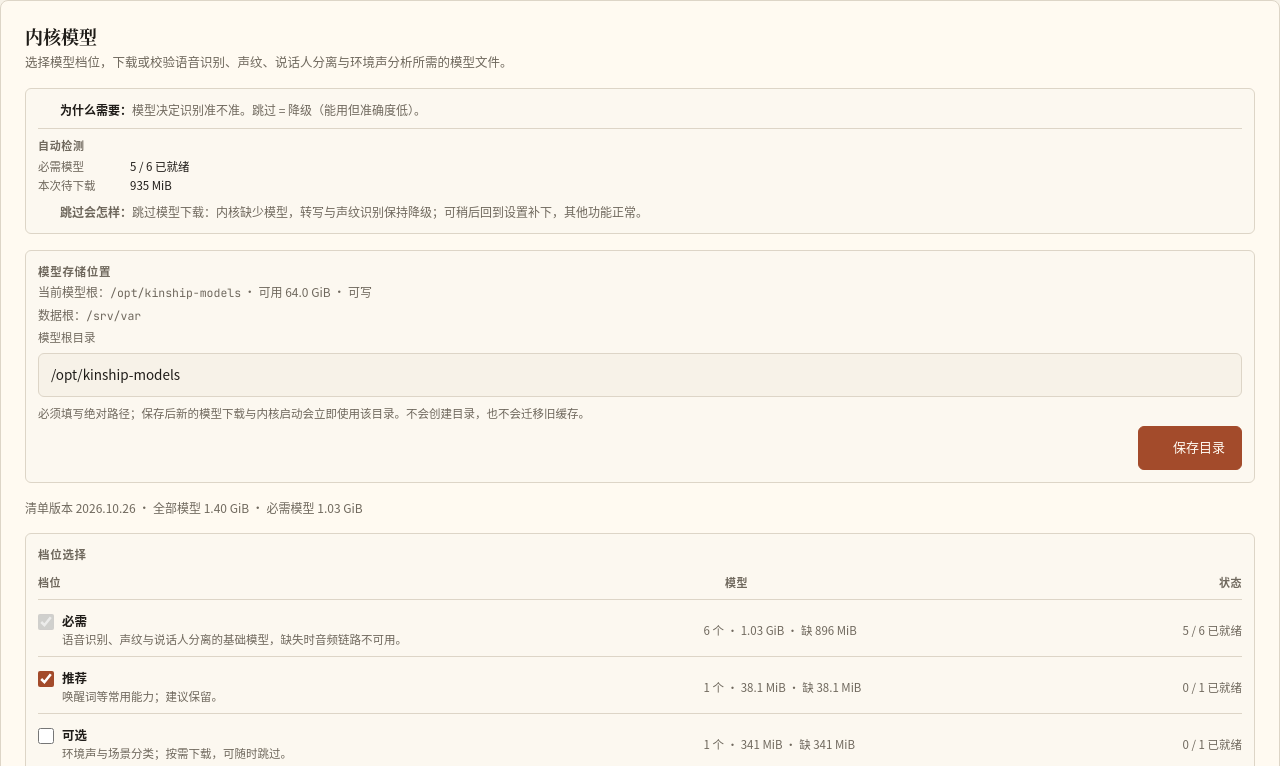
KernelModelsStep › blocks the storage save without an entry password
Type "/data/models" into the field labelled "模型根目录" at x=640, y=375, box [38,353,1242,397]
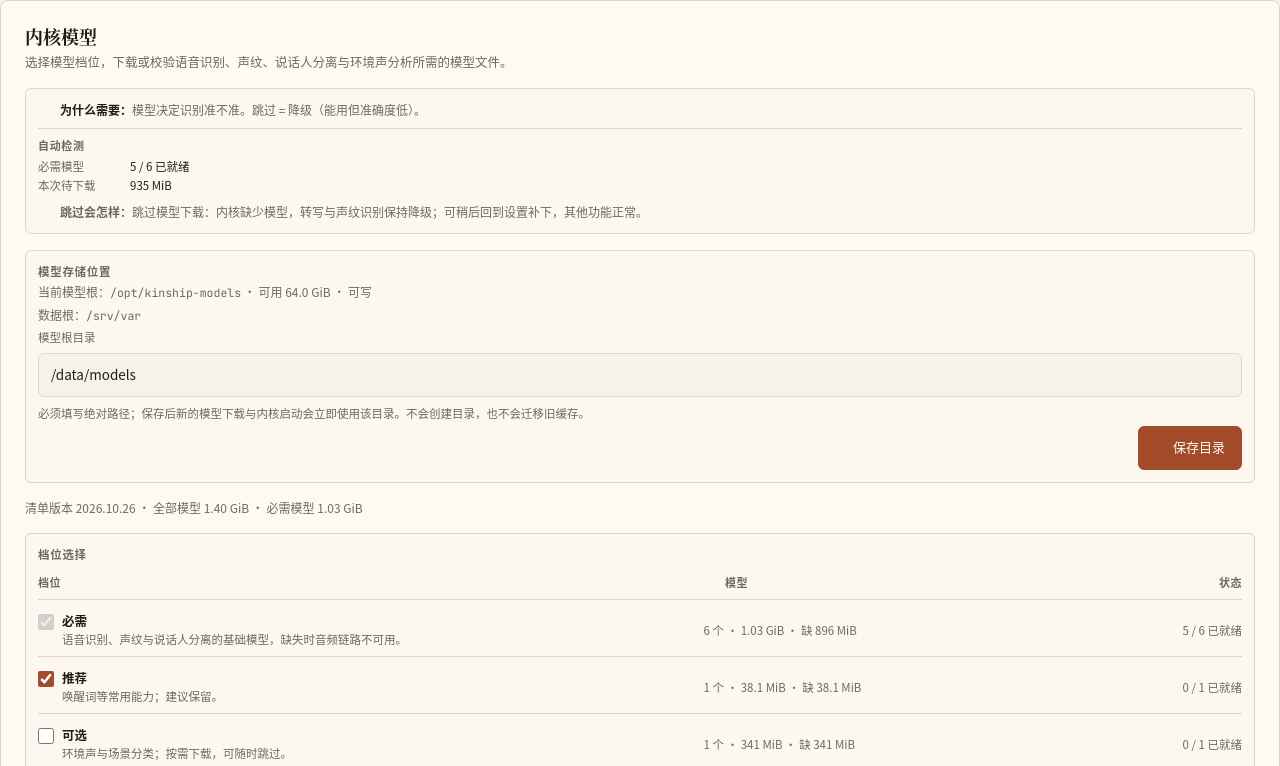
Click the button "保存目录" at x=1190, y=448, box [1138,426,1242,470]
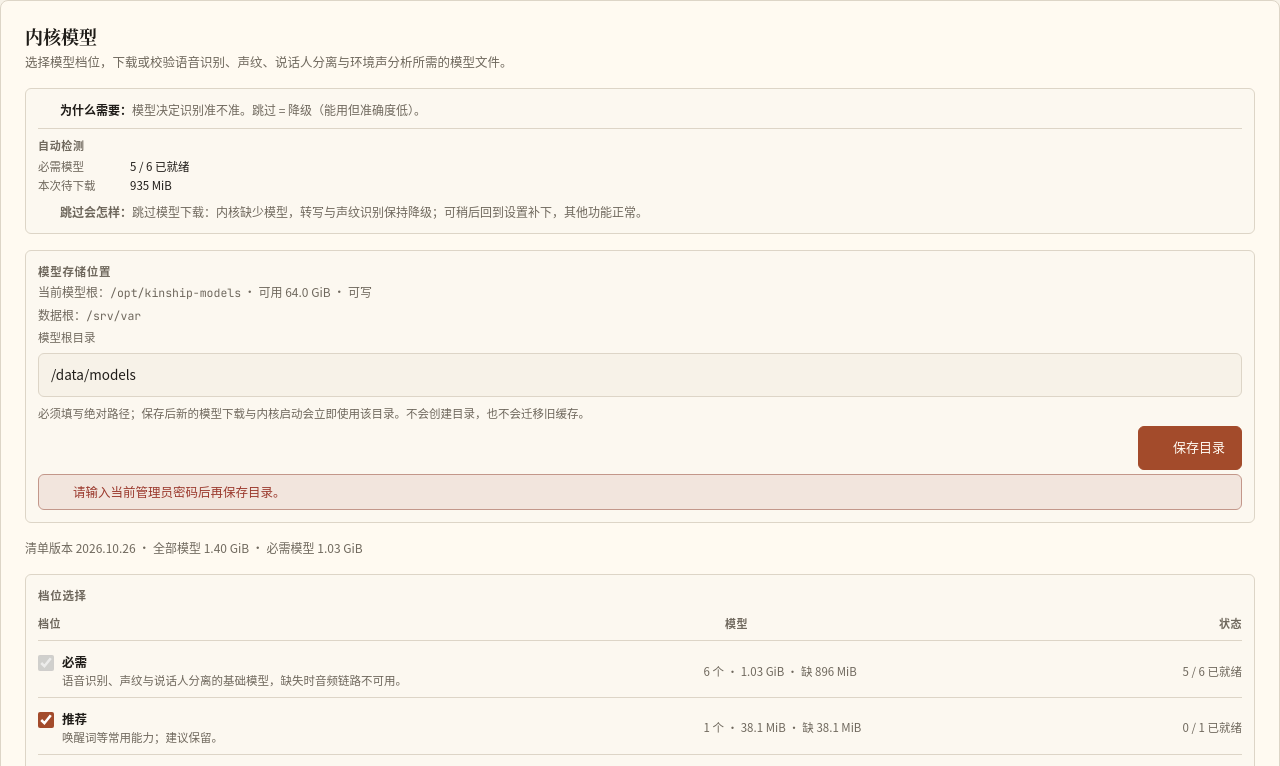
Check: the message "请输入当前管理员密码后再保存目录。" is shown, box [38,474,1242,510]
